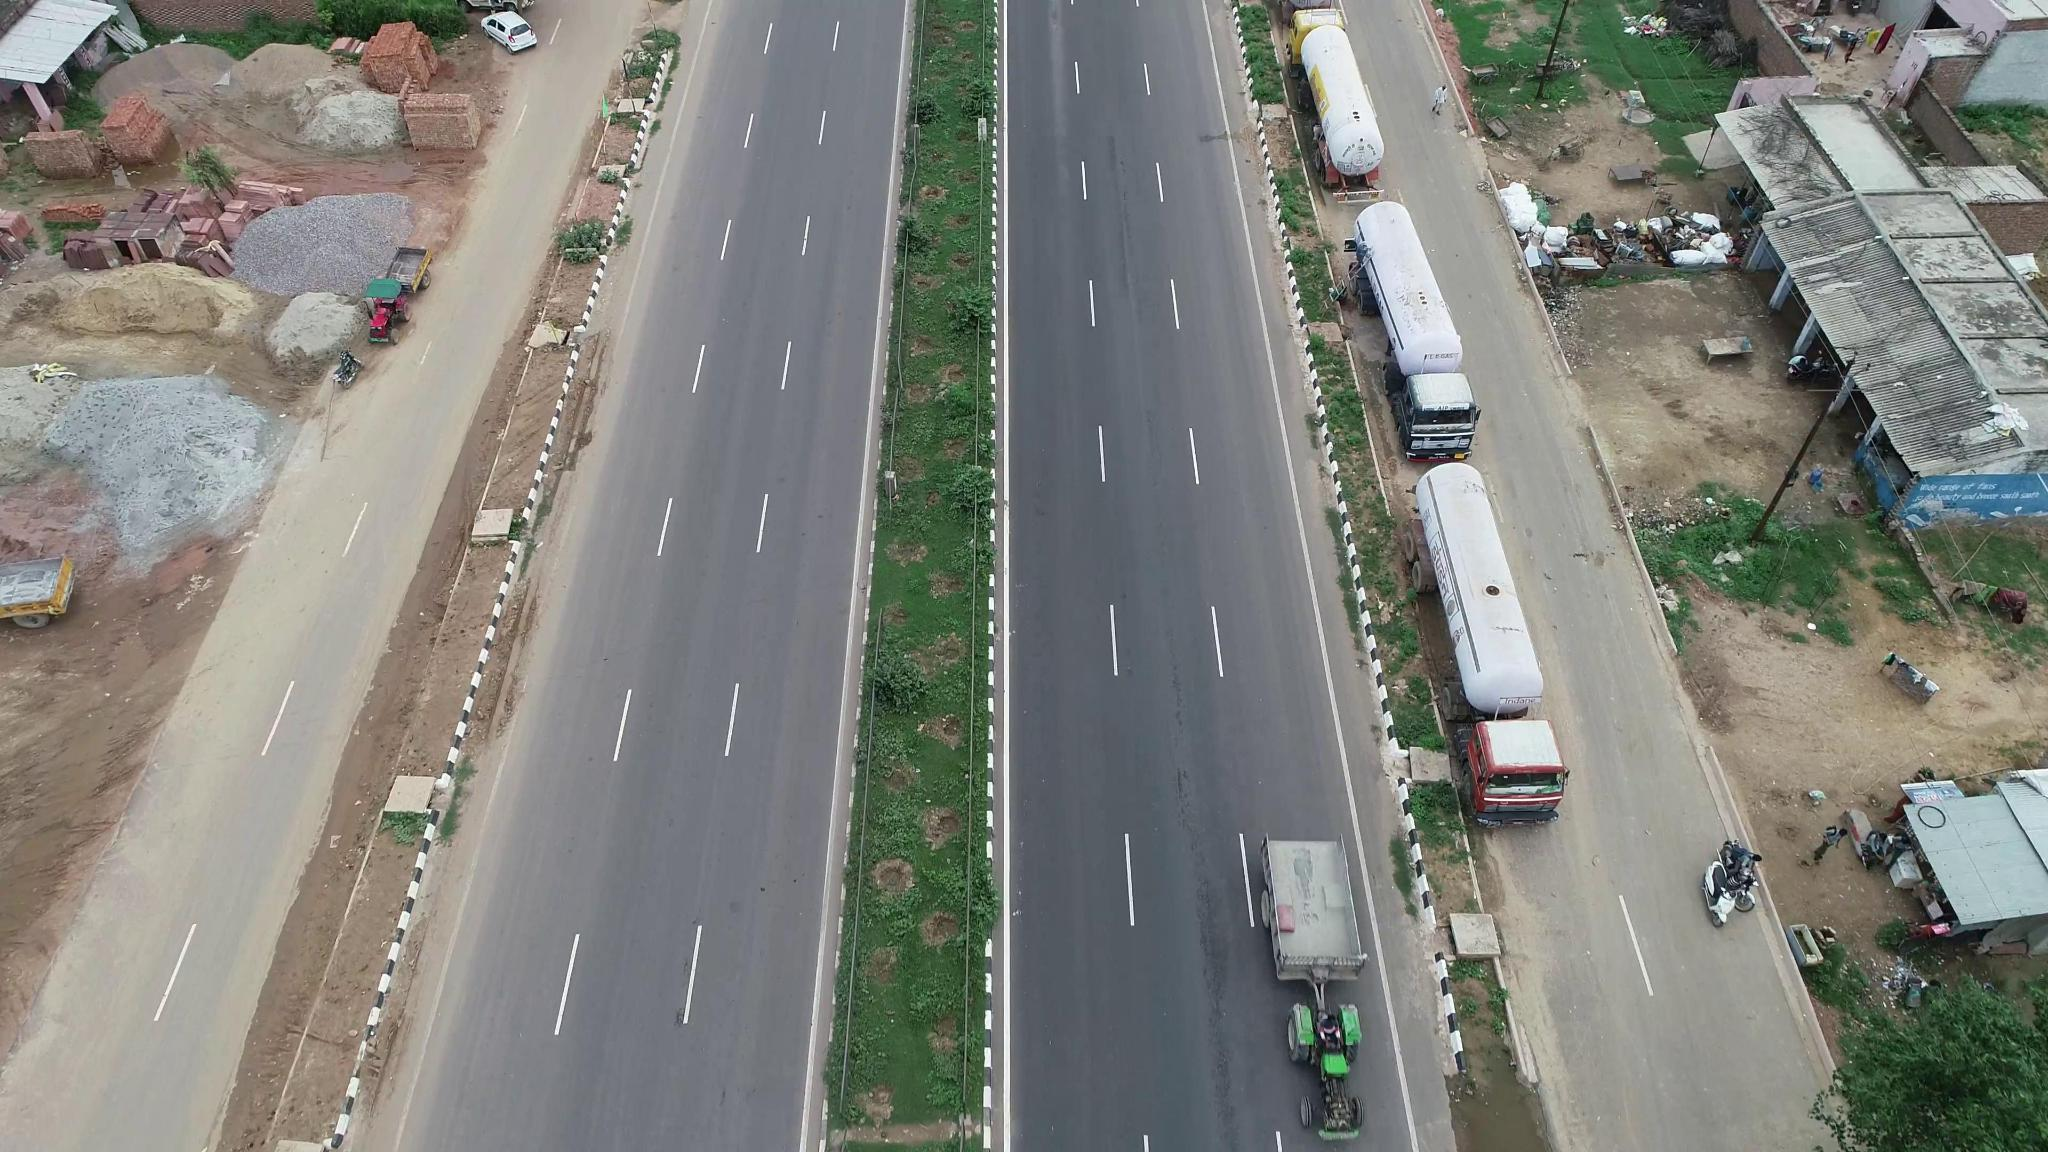Ravelling: (1180, 792, 1243, 1145)
